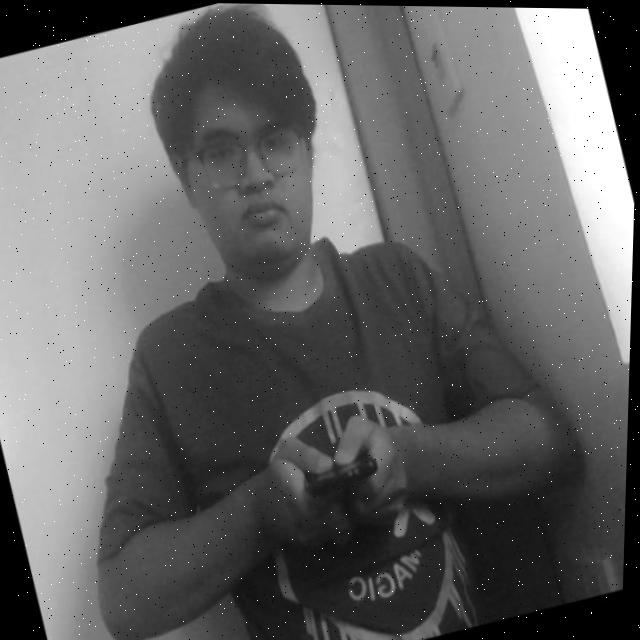phone: (286, 408, 397, 533)
